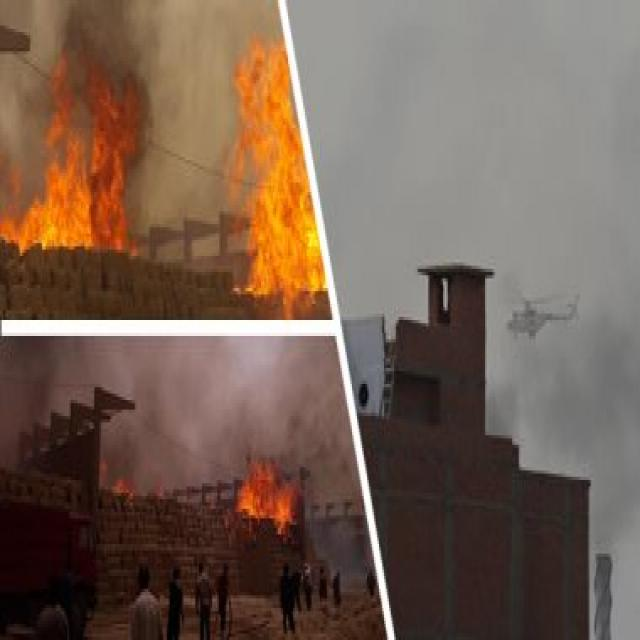Fire: (224, 35, 328, 320), (0, 51, 138, 256), (231, 458, 303, 544), (99, 464, 179, 515)
Smoke: (0, 2, 360, 568)
